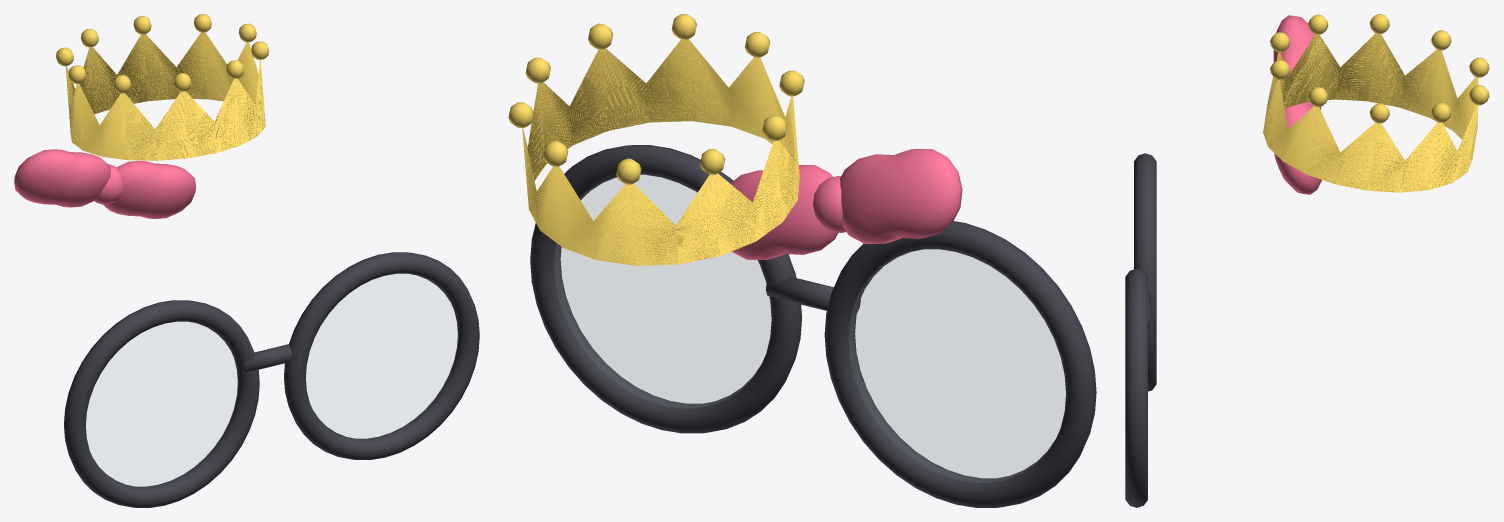
File: conejo_extras.glb
3 views of the same model, side by side, from view 1: azimuth 30°, elevation 25°; view 2: azimuth 150°, elevation 25°; view 3: azimuth 270°, elevation 25° (orthographic). The views are drawn at different scales.
Visible parts, largest first — view 1: acc_lentes_cristal, acc_lentes, acc_corona, acc_mono; view 2: acc_lentes_cristal, acc_lentes, acc_corona, acc_mono; view 3: acc_corona, acc_lentes, acc_mono.
Part boxes in pixels (x1,y1,x2,y2): acc_lentes_cristal: [86, 274, 457, 486]; acc_lentes: [64, 252, 479, 507]; acc_corona: [56, 14, 269, 160]; acc_mono: [14, 149, 195, 218]; acc_lentes_cristal: [554, 175, 1065, 482]; acc_lentes: [530, 145, 1096, 507]; acc_corona: [508, 14, 804, 265]; acc_mono: [730, 149, 962, 259]; acc_corona: [1263, 14, 1489, 192]; acc_lentes: [1125, 153, 1156, 507]; acc_mono: [1273, 15, 1321, 194].
Bounding box in the file's own units: 0.4469 × 0.3829 × 0.3205.
